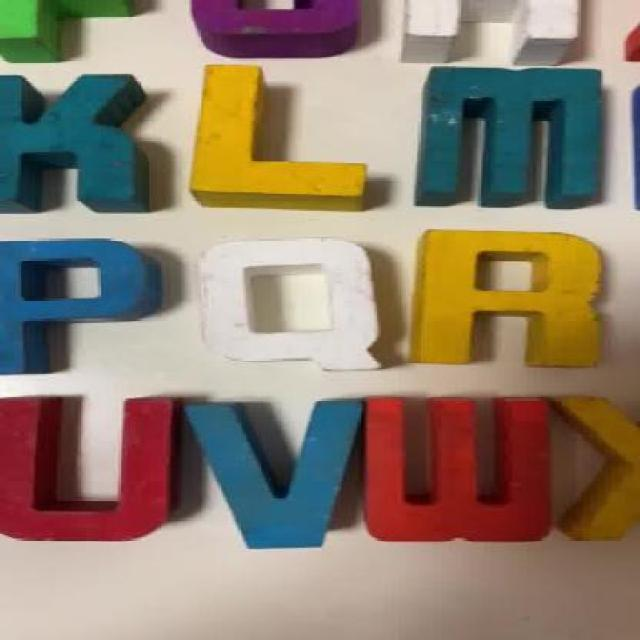K: (0, 72, 146, 218)
L: (196, 66, 379, 206)
M: (414, 67, 604, 202)
P: (0, 236, 162, 372)
Q: (197, 237, 386, 372)
R: (406, 230, 612, 368)
U: (0, 390, 191, 544)
V: (196, 400, 364, 546)
W: (369, 392, 546, 540)
